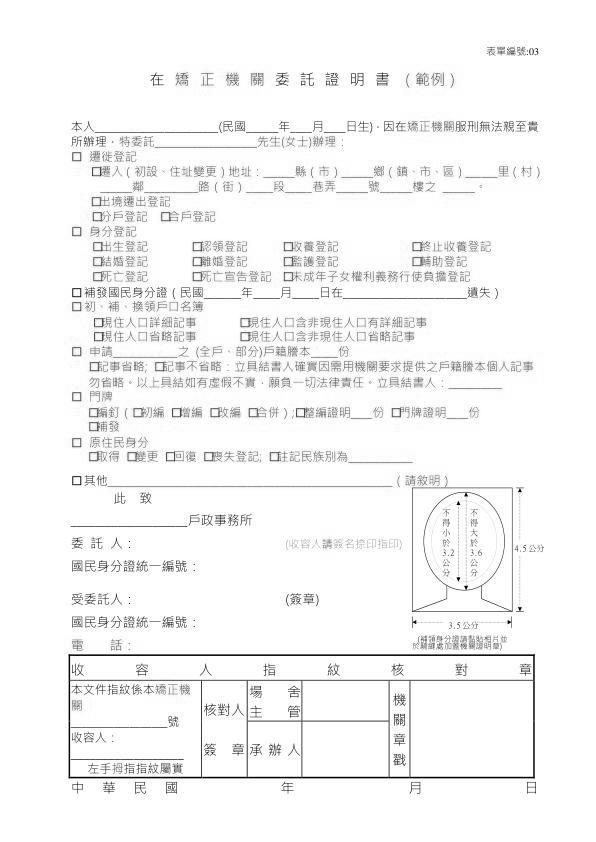check_box: (69, 225, 83, 239), (70, 151, 83, 163), (71, 345, 83, 358), (71, 390, 84, 402), (91, 165, 102, 179), (269, 450, 280, 464), (70, 475, 82, 487), (159, 211, 170, 224), (91, 270, 102, 283), (131, 406, 142, 419), (202, 450, 213, 463), (90, 195, 101, 207), (90, 240, 101, 252), (92, 331, 103, 343), (239, 317, 250, 329), (238, 331, 249, 343), (88, 407, 99, 419), (209, 407, 220, 419), (165, 451, 176, 463), (283, 270, 293, 283), (412, 240, 422, 253), (171, 406, 181, 419), (248, 406, 258, 419), (391, 406, 400, 420), (283, 256, 294, 267), (411, 256, 422, 267), (71, 286, 82, 297), (153, 361, 164, 372), (71, 437, 82, 448), (92, 211, 102, 223), (92, 255, 102, 267), (72, 301, 82, 313), (89, 361, 99, 373), (88, 450, 98, 462), (296, 407, 305, 420), (192, 241, 202, 252), (192, 256, 202, 267), (93, 317, 103, 328), (88, 421, 98, 432), (192, 271, 201, 283), (127, 451, 136, 463), (284, 241, 293, 252)
input: (108, 473, 391, 489), (71, 511, 183, 530), (96, 119, 217, 134), (342, 287, 464, 300), (156, 136, 256, 150), (350, 450, 415, 465), (115, 346, 176, 360), (145, 179, 196, 194), (448, 378, 502, 391), (205, 284, 240, 300), (442, 179, 475, 195), (263, 163, 293, 179), (342, 164, 371, 179), (466, 165, 494, 180), (337, 181, 367, 195), (247, 119, 274, 134), (382, 182, 412, 195), (292, 286, 318, 301), (286, 180, 310, 195), (255, 284, 276, 301), (100, 182, 129, 194), (448, 403, 466, 422), (247, 181, 271, 195), (352, 403, 370, 421), (291, 118, 310, 135), (325, 119, 345, 134), (314, 346, 337, 359)
table: (66, 653, 536, 779)
text: (147, 68, 461, 94), (68, 781, 541, 796), (89, 375, 439, 389), (165, 360, 536, 373), (347, 119, 543, 134), (249, 316, 431, 329), (294, 270, 474, 283), (101, 164, 259, 178), (69, 558, 197, 575), (69, 614, 202, 630), (250, 331, 419, 343), (284, 536, 404, 552), (179, 345, 310, 358), (83, 300, 205, 313), (84, 286, 203, 298), (374, 164, 462, 179), (68, 535, 133, 554), (103, 315, 197, 328), (187, 510, 253, 528), (279, 448, 348, 465), (103, 331, 196, 343), (257, 135, 342, 148), (69, 591, 133, 608), (423, 238, 494, 253), (70, 135, 154, 147), (70, 636, 133, 652), (203, 269, 272, 282), (102, 195, 174, 207), (88, 435, 150, 448), (400, 404, 446, 421), (99, 359, 148, 374), (213, 449, 261, 464), (284, 591, 321, 610), (202, 239, 251, 253), (396, 474, 448, 487), (497, 164, 542, 179), (294, 239, 342, 253), (88, 150, 139, 163), (102, 210, 152, 223), (170, 210, 220, 223), (102, 240, 151, 253), (197, 180, 242, 194), (305, 405, 350, 419), (102, 270, 150, 283), (296, 163, 337, 178), (88, 225, 138, 237), (111, 491, 152, 505), (423, 255, 470, 267), (293, 255, 340, 267), (203, 255, 250, 267), (103, 255, 150, 267), (467, 286, 499, 299), (258, 404, 281, 422), (218, 119, 245, 134), (174, 448, 197, 465), (181, 404, 204, 420), (88, 390, 116, 403), (72, 118, 94, 134), (312, 180, 336, 194), (413, 180, 437, 194), (136, 450, 160, 464), (88, 345, 113, 358), (83, 474, 107, 487), (320, 285, 342, 299), (143, 406, 166, 419), (98, 450, 121, 463), (99, 405, 120, 419), (99, 420, 121, 433), (220, 406, 242, 419), (468, 406, 483, 420), (312, 119, 324, 133), (338, 345, 352, 357), (372, 405, 384, 419), (274, 179, 284, 195), (277, 119, 289, 132), (131, 180, 144, 192), (242, 285, 253, 299), (369, 181, 380, 194), (280, 286, 291, 299)
